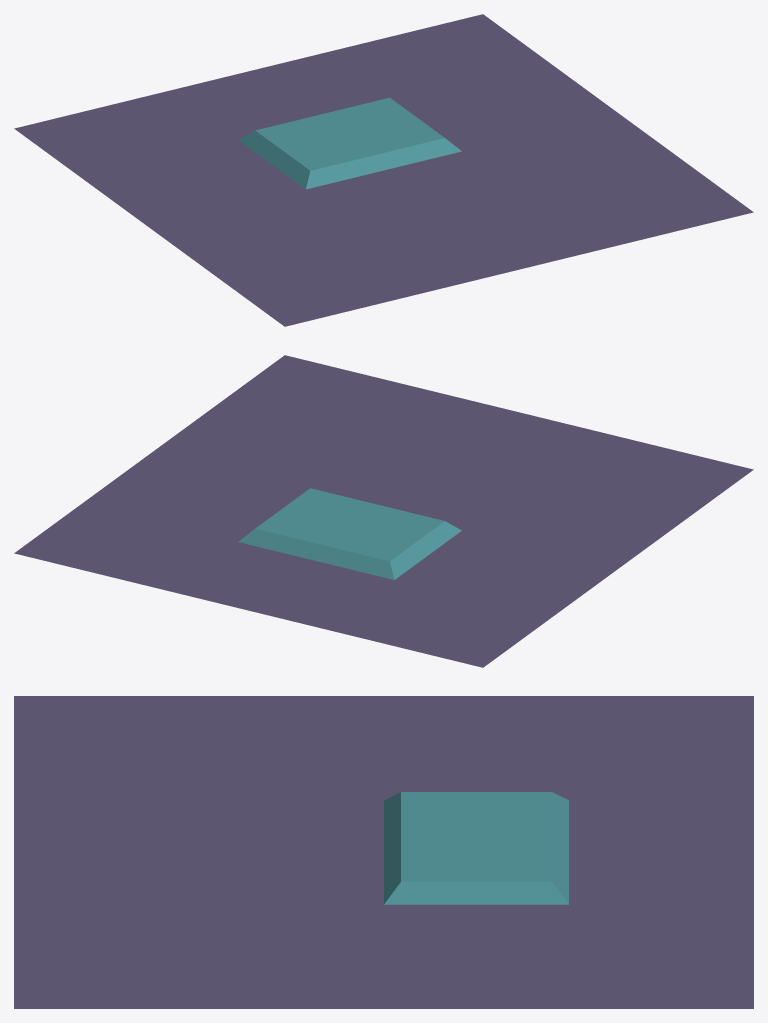
The model's file is TileFloor_Type0.fbx.
The picture shows the model from 3 angles, top to bottom: view 1: azimuth 30°, elevation 25°; view 2: azimuth 150°, elevation 25°; view 3: azimuth 270°, elevation 25°; orthographic projection. The views are drawn at different scales.
Visible parts, largest first — view 1: Plane; view 2: Plane; view 3: Plane.
Boxes of the visible parts, x1,y1,x2,y2 form: Plane: (14,14,753,326); Plane: (14,355,753,667); Plane: (14,696,753,1008).
Bounding box in the file's own units: 200 × 4.67 × 200.
